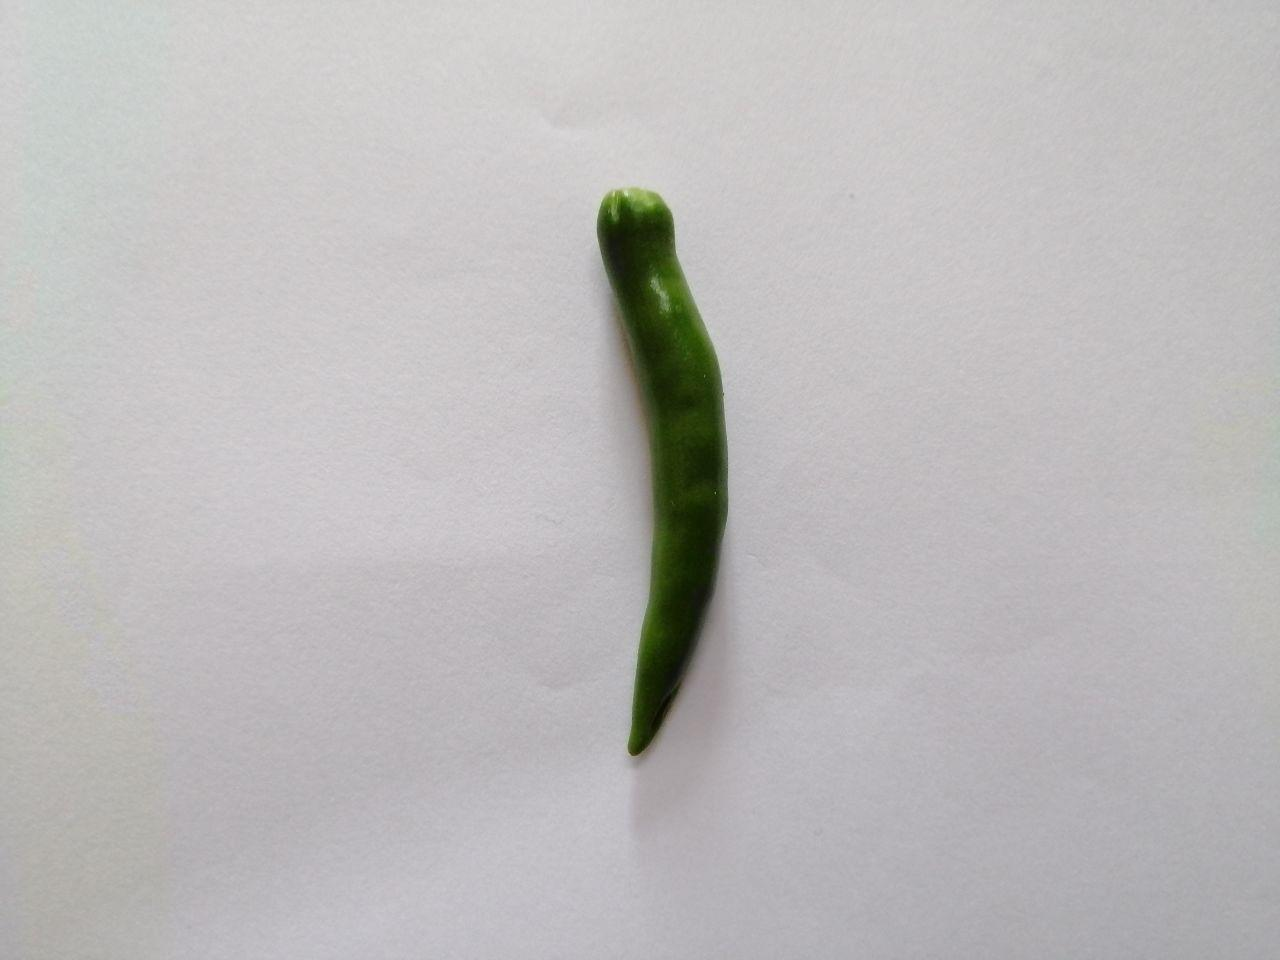lada hijau: (552, 171, 750, 781)
